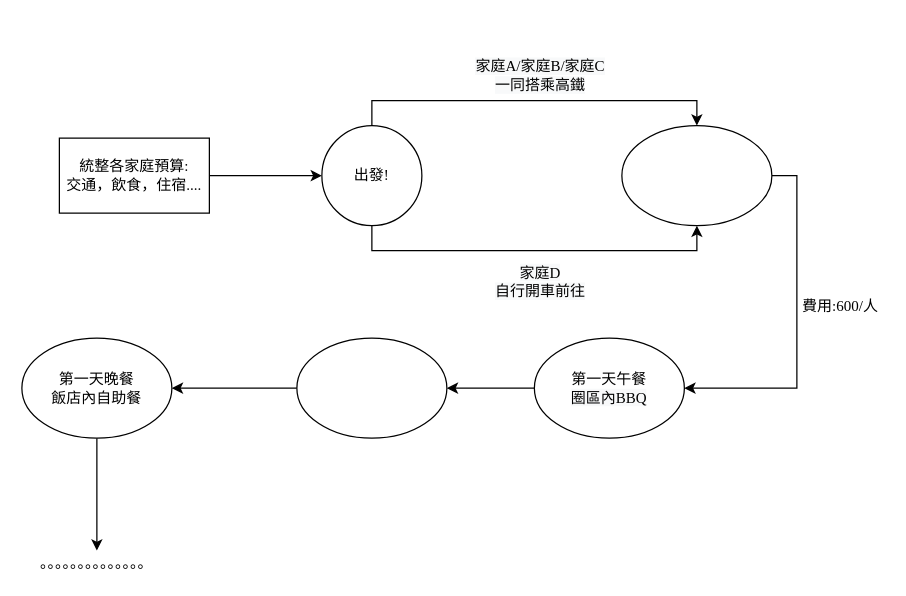
This 906x596 diagram has some shape labels left out. The centre of each missing label's shape, as x and y in pixels:
"景點1" goes at (x=696, y=175).
"景點2" goes at (x=371, y=387).
